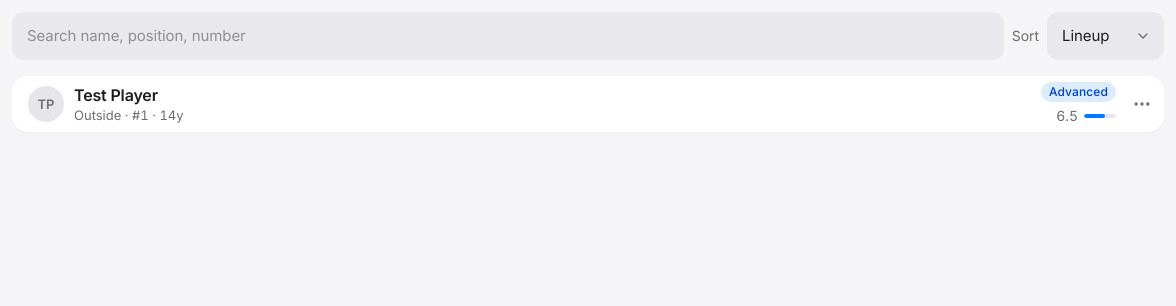
Test: TeamRosterTable › row kebab › reports aria-expanded and closes the menu when pressed again
Click the button named "Actions for Test Player". click: (1142, 104)
box: [1120,82,1164,126]
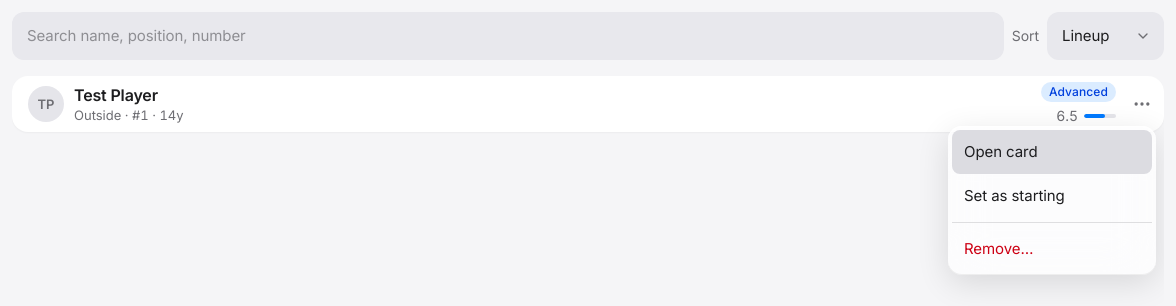
Result: the menu is shown at [948,126,1156,275]
Click the button named "Actions for Test Player". click: (1142, 104)
box: [1120,82,1164,126]
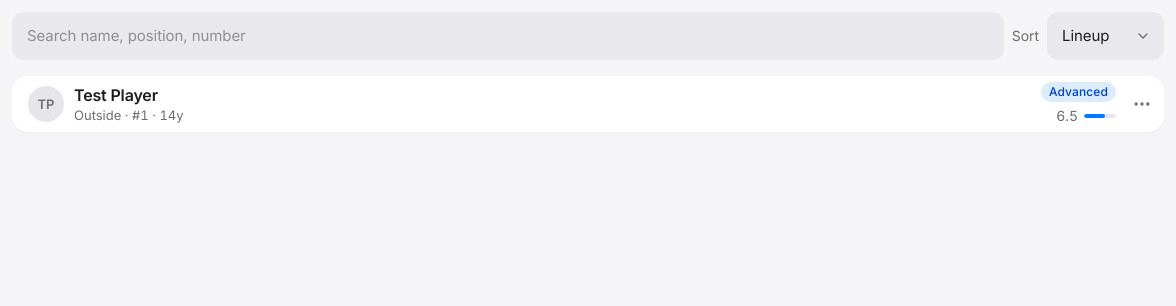
Result: the menu is gone
